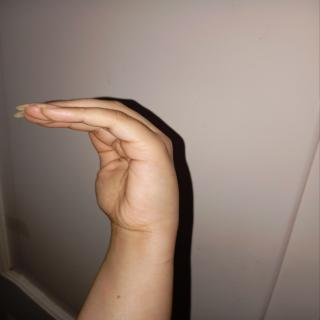HAA: (4, 84, 212, 268)
